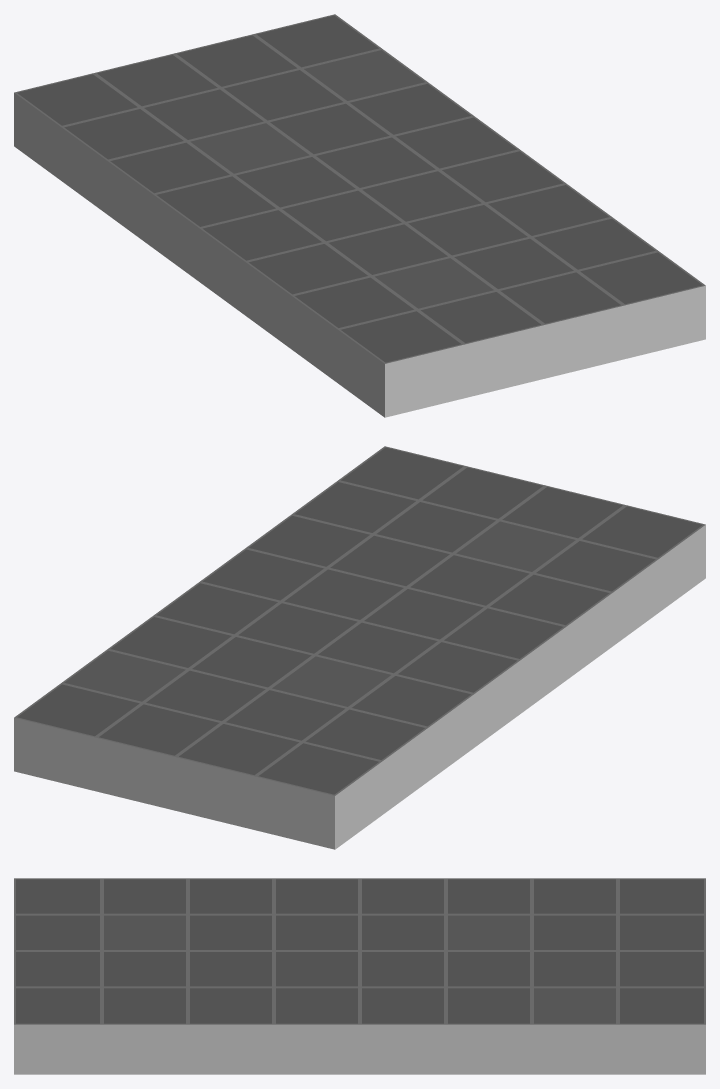
Rendered from Floor3_02.fbx.
3 views of the same model, one above another, from view 1: azimuth 30°, elevation 25°; view 2: azimuth 150°, elevation 25°; view 3: azimuth 270°, elevation 25° (orthographic). The views are drawn at different scales.
Visible parts, largest first — view 1: Floor3_02; view 2: Floor3_02; view 3: Floor3_02.
Part boxes in pixels (box(x1,y1,x2,y2)): Floor3_02: box(14, 14, 705, 417); Floor3_02: box(14, 446, 705, 849); Floor3_02: box(14, 878, 705, 1074).
Size of the model in its own units: 125 by 20 by 250.
